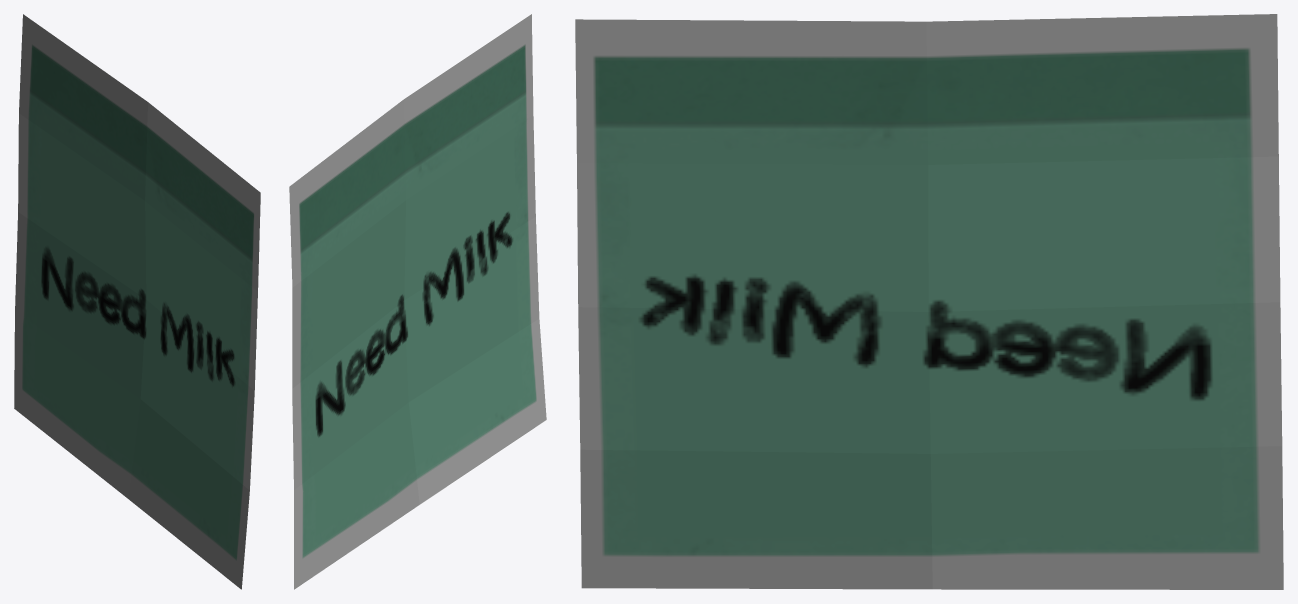
File: SM_Sticker_A3.fbx
The picture shows the model from 3 angles, left to right: view 1: azimuth 30°, elevation 25°; view 2: azimuth 150°, elevation 25°; view 3: azimuth 270°, elevation 25°; orthographic projection. The views are drawn at different scales.
Visible parts, largest first — view 1: SM_Sticker_A3; view 2: SM_Sticker_A3; view 3: SM_Sticker_A3.
Boxes of the visible parts, bbox=[...] form: SM_Sticker_A3: bbox=[14, 14, 260, 589]; SM_Sticker_A3: bbox=[289, 14, 546, 589]; SM_Sticker_A3: bbox=[575, 14, 1283, 589].
Size of the model in its own units: 0.5462 by 9.68 by 8.85.
1 material, 1 textured.
